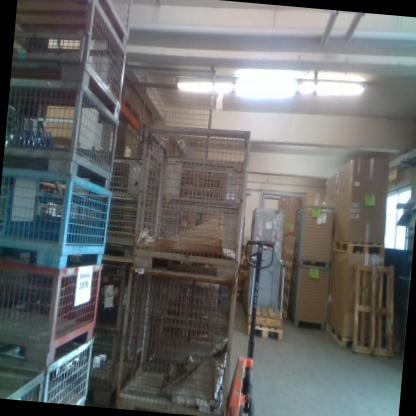pallet: (347, 263, 402, 359), (276, 234, 296, 319), (332, 239, 386, 257), (246, 310, 286, 332), (329, 325, 356, 350), (247, 326, 283, 341)
pallet_truck: (224, 237, 275, 416)
stillage: (129, 115, 258, 275), (116, 262, 241, 416), (11, 0, 133, 111), (3, 70, 129, 177), (0, 246, 107, 369), (0, 162, 117, 273), (0, 328, 96, 405), (82, 322, 127, 403), (288, 261, 336, 333), (58, 0, 136, 42), (90, 269, 126, 354), (293, 202, 339, 266), (0, 358, 48, 402), (102, 196, 135, 256), (102, 157, 137, 204)
